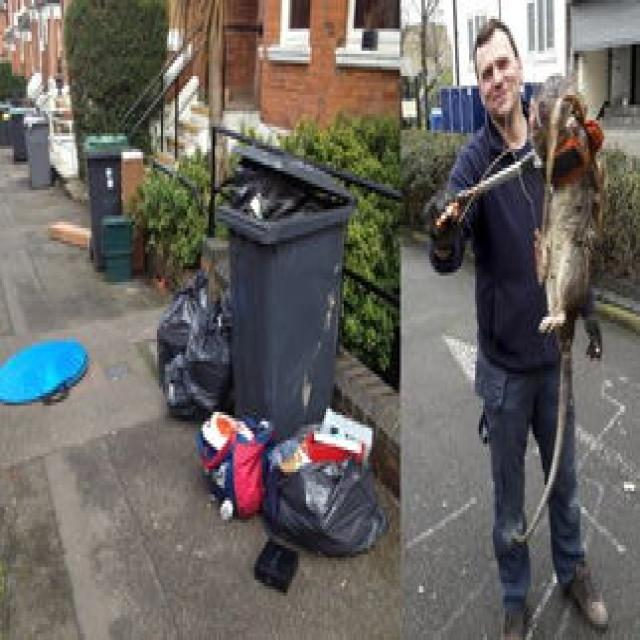garbage: (192, 406, 384, 592), (155, 266, 231, 418)
overflow: (215, 139, 348, 434)
